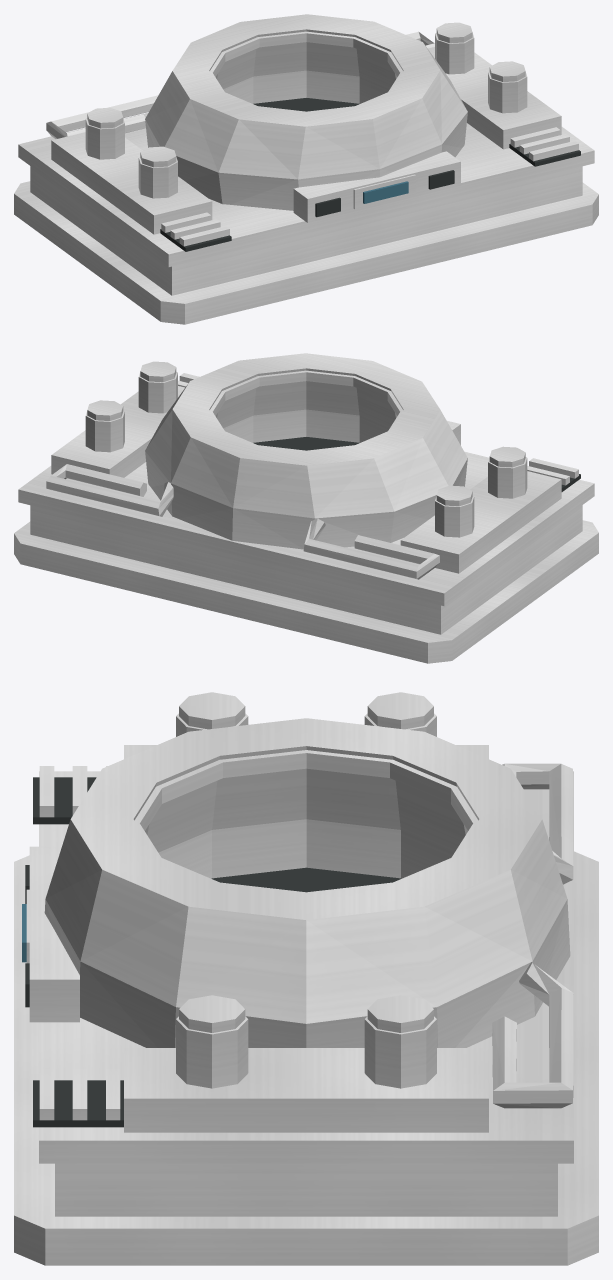
The model's file is wastepack_atomizer.obj.
The picture shows the model from 3 angles, top to bottom: view 1: azimuth 30°, elevation 25°; view 2: azimuth 150°, elevation 25°; view 3: azimuth 270°, elevation 25°; orthographic projection. The views are drawn at different scales.
Parts seen in each view (by area): view 1: wastepack_atomizer; view 2: wastepack_atomizer; view 3: wastepack_atomizer.
Boxes of the visible parts, x1=… form: wastepack_atomizer: x1=14, y1=14, x2=598, y2=324; wastepack_atomizer: x1=14, y1=353, x2=598, y2=663; wastepack_atomizer: x1=14, y1=692, x2=598, y2=1265.
Size of the model in its own units: 2.86 by 0.9 by 1.86.
